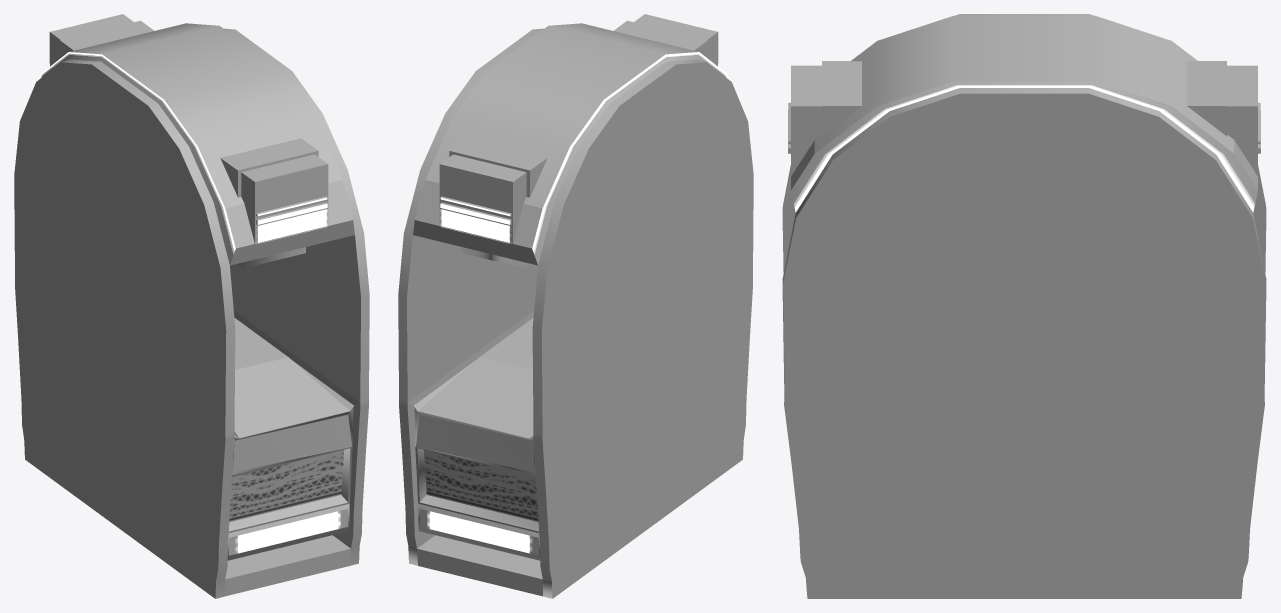
File: KF_SM_OPcenter3.fbx
The picture shows the model from 3 angles, left to right: view 1: azimuth 30°, elevation 25°; view 2: azimuth 150°, elevation 25°; view 3: azimuth 270°, elevation 25°; orthographic projection. The views are drawn at different scales.
Visible parts, largest first — view 1: KF_SM_OPcenter3; view 2: KF_SM_OPcenter3; view 3: KF_SM_OPcenter3.
Boxes of the visible parts, x1=… form: KF_SM_OPcenter3: x1=14, y1=14, x2=369, y2=598; KF_SM_OPcenter3: x1=398, y1=14, x2=753, y2=598; KF_SM_OPcenter3: x1=782, y1=14, x2=1266, y2=598.
Size of the model in its own units: 257 by 766 by 658.
